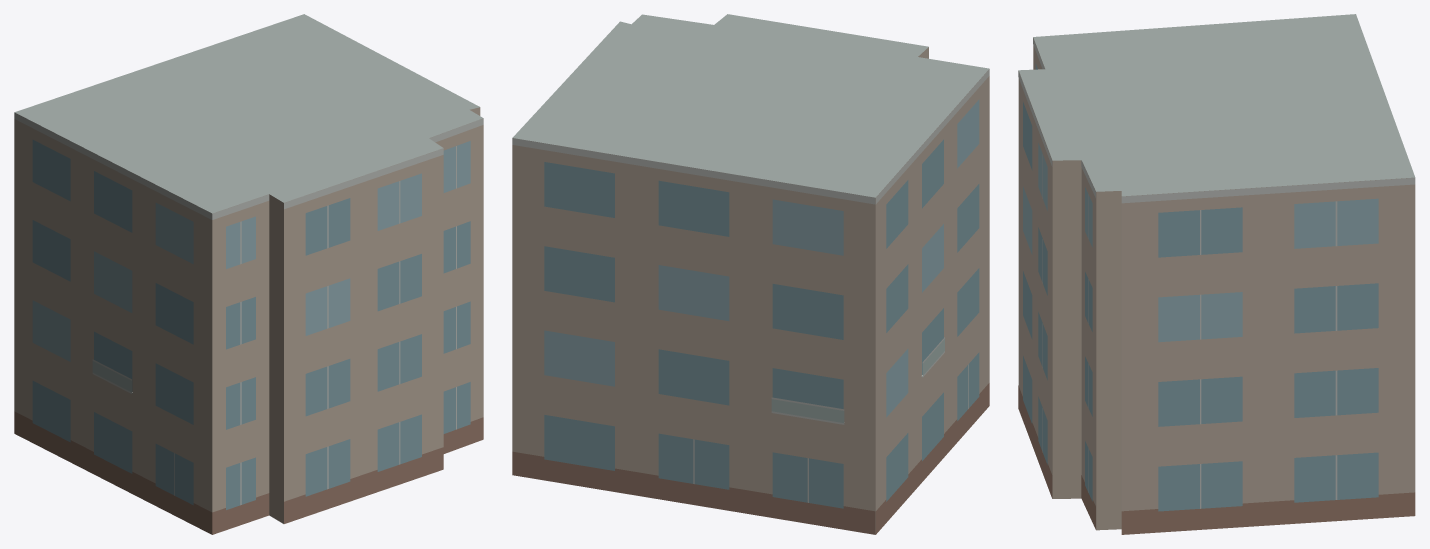
The model's file is survey-upis-32609139.glb.
3 views of the same model, side by side, from view 1: azimuth 30°, elevation 25°; view 2: azimuth 150°, elevation 25°; view 3: azimuth 270°, elevation 25° (orthographic). The views are drawn at different scales.
Parts seen in each view (by area): view 1: survey-upis-32609139.tmp; view 2: survey-upis-32609139.tmp; view 3: survey-upis-32609139.tmp.
Part boxes in pixels (x1,y1,x2,y2): survey-upis-32609139.tmp: (14, 14, 483, 534); survey-upis-32609139.tmp: (512, 14, 989, 534); survey-upis-32609139.tmp: (1018, 14, 1415, 534).
Bounding box in the file's own units: 13.76 × 11.9 × 12.66.
